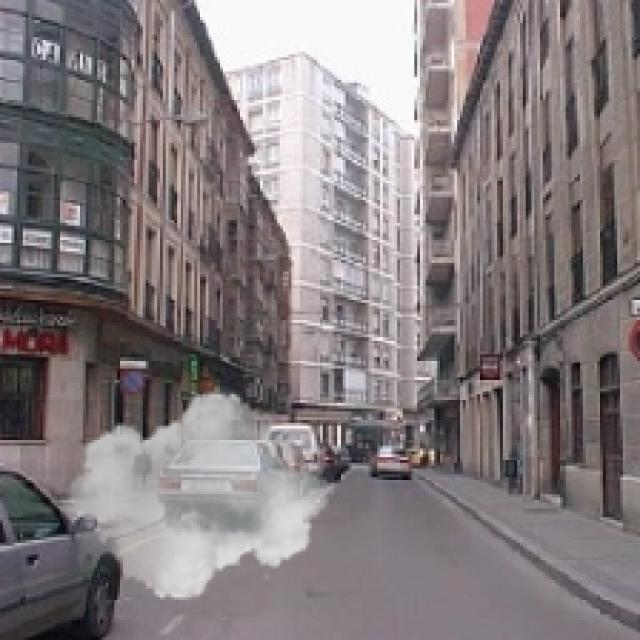Smoke: (59, 382, 334, 608)
